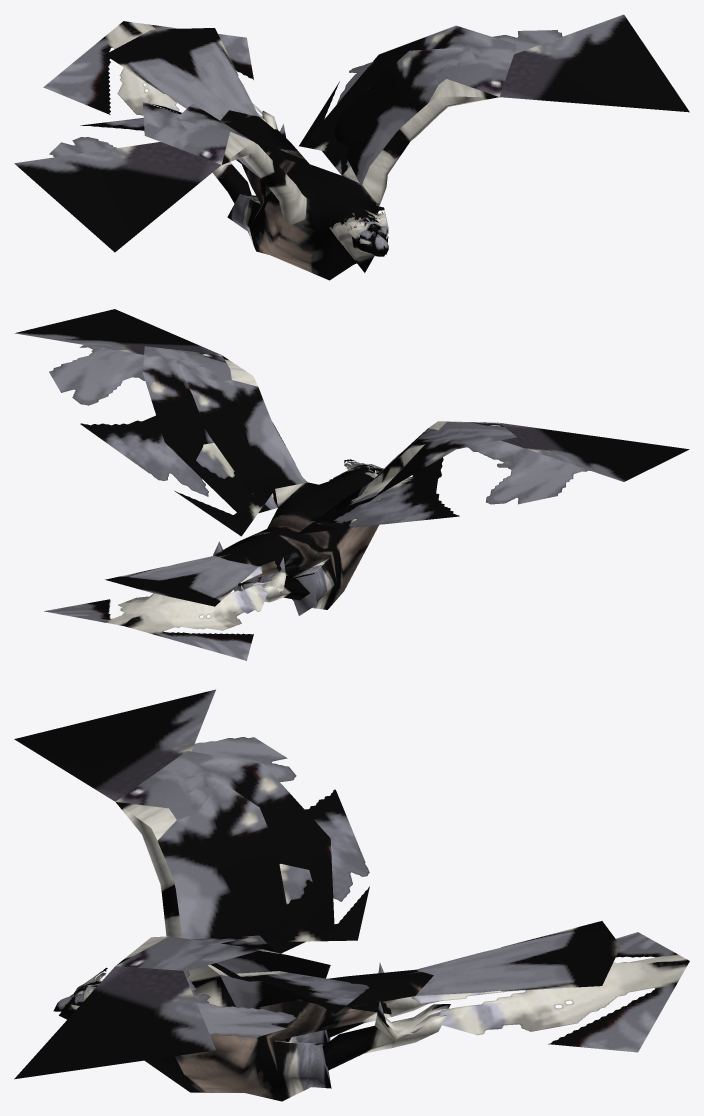
The model's file is Player.obj.
The picture shows the model from 3 angles, top to bottom: view 1: azimuth 30°, elevation 25°; view 2: azimuth 150°, elevation 25°; view 3: azimuth 270°, elevation 25°; orthographic projection. The views are drawn at different scales.
Visible parts, largest first — view 1: HARPY.001; view 2: HARPY.001; view 3: HARPY.001.
Part boxes in pixels (x1,y1,x2,y2): HARPY.001: [14, 14, 689, 280]; HARPY.001: [15, 309, 689, 660]; HARPY.001: [14, 689, 689, 1101].
Bounding box in the file's own units: 27.26 × 8.31 × 21.58.
1 material, 1 textured.
